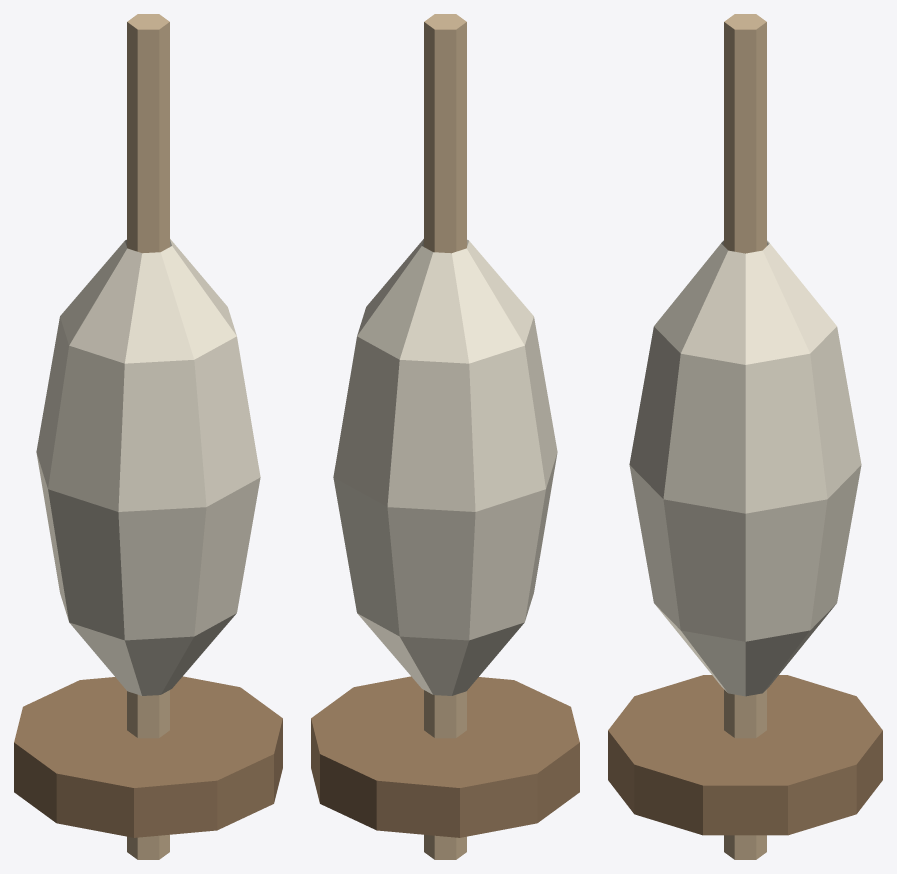
Rendered from prop-drop-spindle.fbx.
3 renders of one model, left to right at view 1: azimuth 30°, elevation 25°; view 2: azimuth 150°, elevation 25°; view 3: azimuth 270°, elevation 25°, orthographic.
Visible parts, largest first — view 1: prop-drop-spindle; view 2: prop-drop-spindle; view 3: prop-drop-spindle.
Boxes of the visible parts, x1,y1,x2,y2 form: prop-drop-spindle: [14, 14, 282, 859]; prop-drop-spindle: [311, 14, 579, 859]; prop-drop-spindle: [608, 14, 882, 859].
Size of the model in its own units: 8.56 by 30 by 9.
